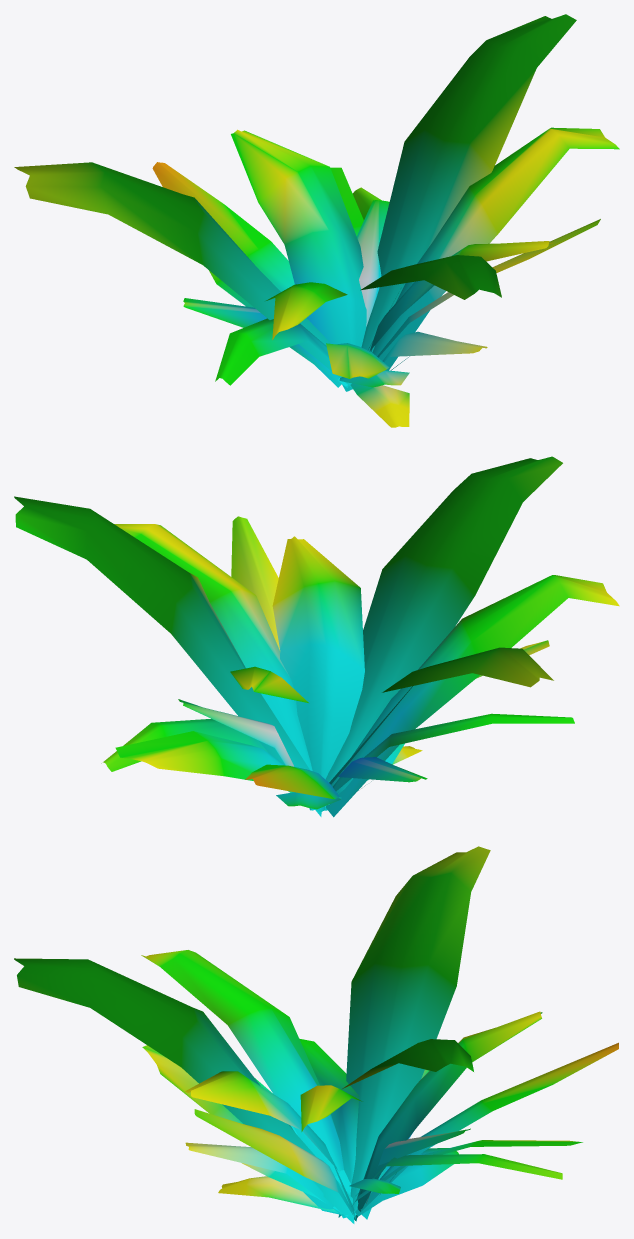
File: fern.glb
3 views of the same model, one above another, from view 1: azimuth 30°, elevation 25°; view 2: azimuth 150°, elevation 25°; view 3: azimuth 270°, elevation 25° (orthographic). The views are drawn at different scales.
Parts seen in each view (by area): view 1: fern; view 2: fern; view 3: fern.
Part boxes in pixels (left/top/right/bottom): fern: left=14, top=14, right=619, bottom=427; fern: left=14, top=456, right=619, bottom=817; fern: left=14, top=846, right=618, bottom=1223.
Size of the model in its own units: 2.28 by 1.13 by 2.24.
